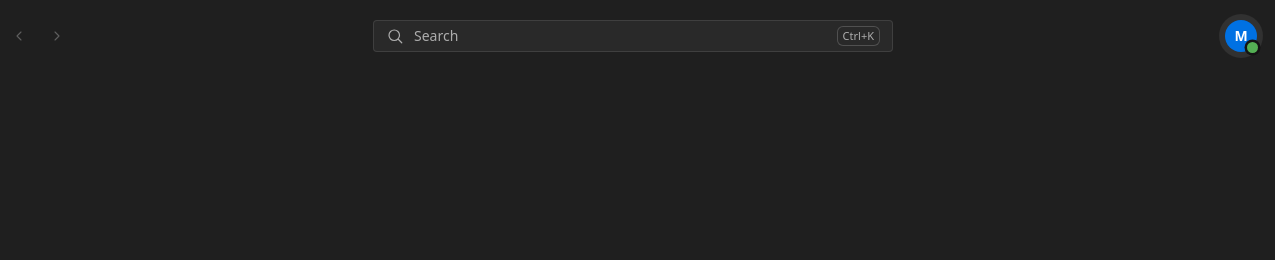
removes one recent entry or clears them all at once
Focus the field labelled "Search" at (620, 36), box [414,26,827,46]
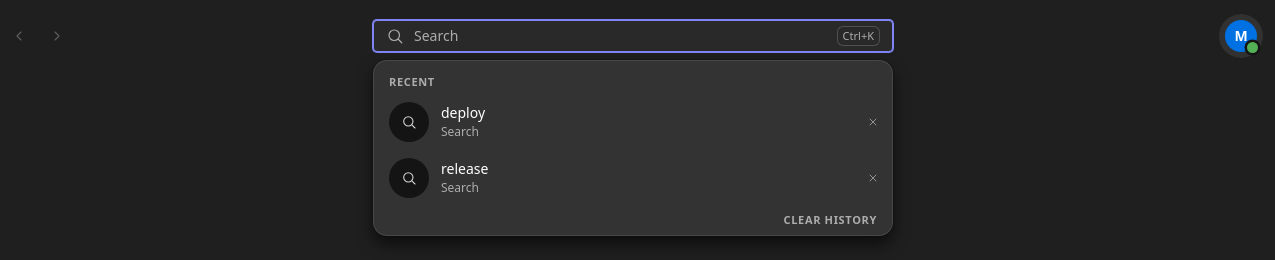
Result: the text "deploy" is shown at [441,103,485,123]
Click the 1st button named "Remove from recent" at (873, 122), box [859,108,887,136]
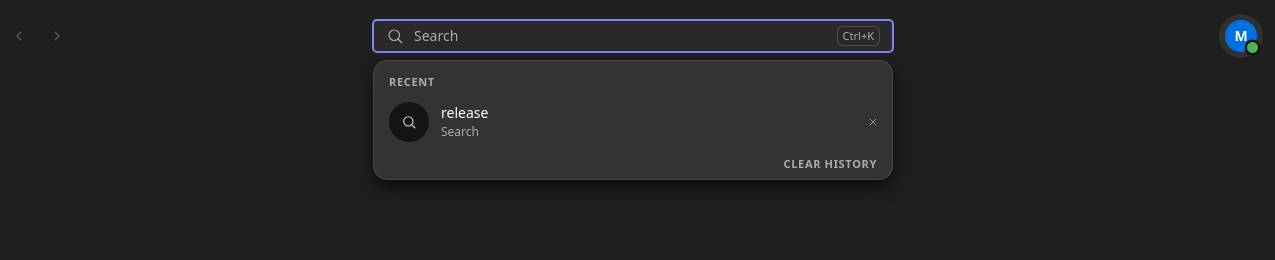
Result: the button "deploy" is gone
Click the button "Clear history" at (830, 164), box [784,156,877,172]
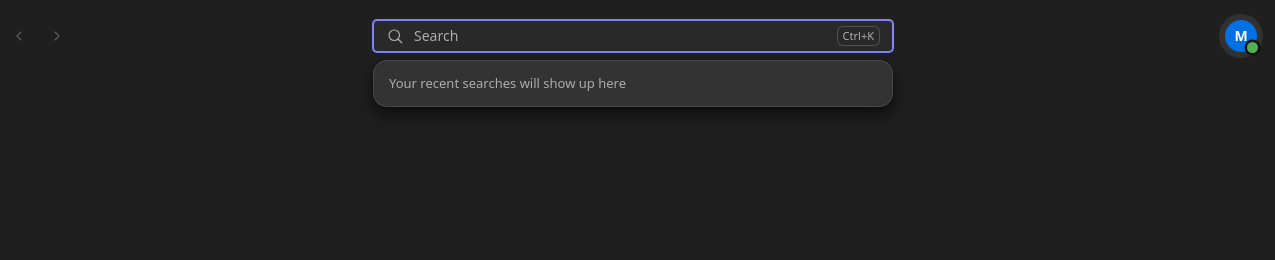
Result: the button "release" is gone
Result: the text "Your recent searches will show up here" is shown at [389,74,626,92]
